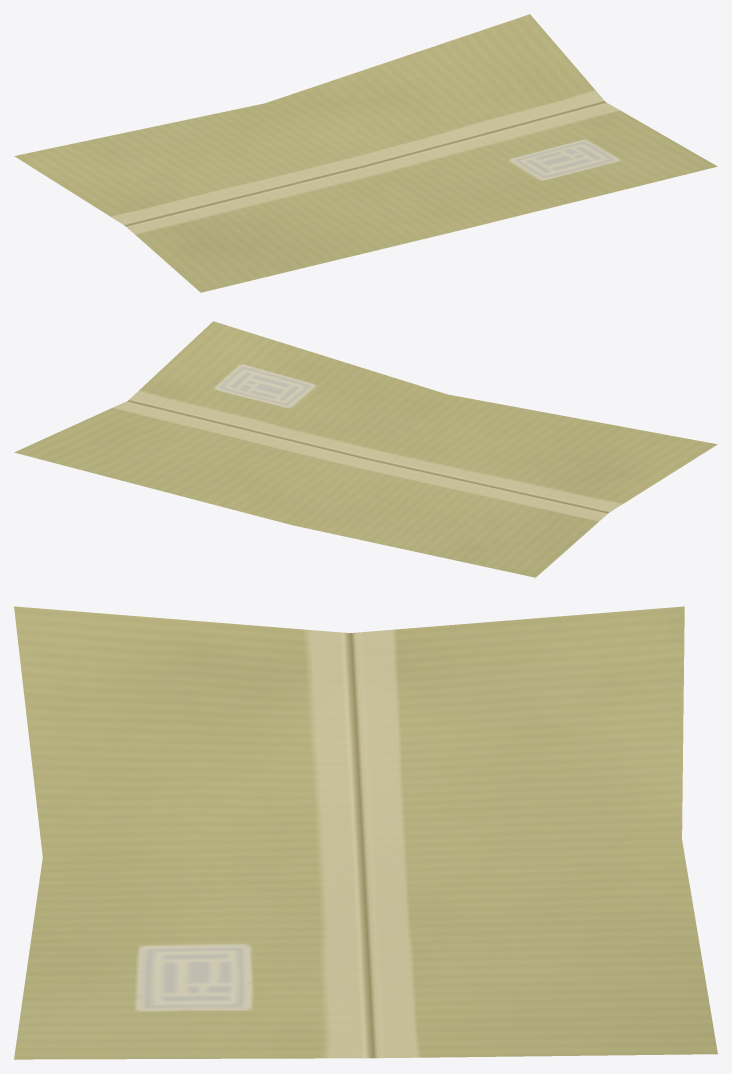
Rendered from p_mesh_beetrotbox_part01.fbx.
3 renders of one model, top to bottom at view 1: azimuth 30°, elevation 25°; view 2: azimuth 150°, elevation 25°; view 3: azimuth 270°, elevation 25°, orthographic. The views are drawn at different scales.
Parts seen in each view (by area): view 1: p_mesh_containers_beetrotbox_part01; view 2: p_mesh_containers_beetrotbox_part01; view 3: p_mesh_containers_beetrotbox_part01.
Boxes of the visible parts, <box> form: p_mesh_containers_beetrotbox_part01: <box>14,14,717,292</box>; p_mesh_containers_beetrotbox_part01: <box>14,321,717,577</box>; p_mesh_containers_beetrotbox_part01: <box>14,606,717,1059</box>.
Size of the model in its own units: 6.18 by 0.1754 by 4.
